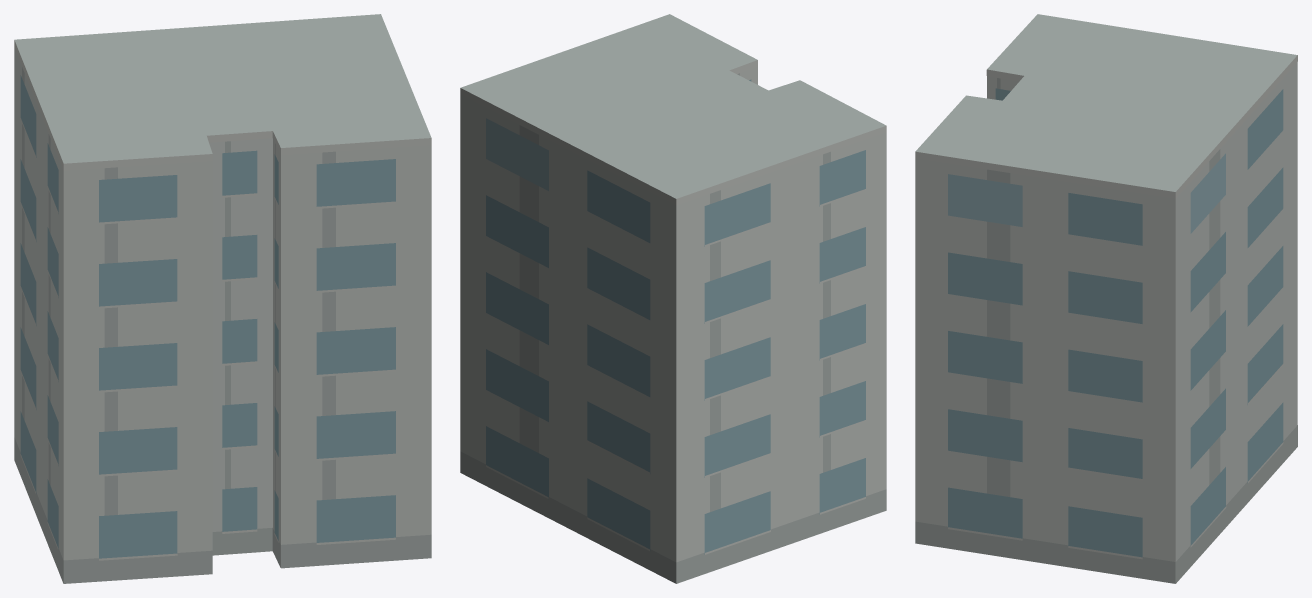
File: survey-upis-32527797.glb
The picture shows the model from 3 angles, left to right: view 1: azimuth 30°, elevation 25°; view 2: azimuth 150°, elevation 25°; view 3: azimuth 270°, elevation 25°; orthographic projection. The views are drawn at different scales.
Parts seen in each view (by area): view 1: survey-upis-32527797.tmp; view 2: survey-upis-32527797.tmp; view 3: survey-upis-32527797.tmp.
Part boxes in pixels (bbox=[...]): survey-upis-32527797.tmp: bbox=[14, 14, 431, 583]; survey-upis-32527797.tmp: bbox=[460, 14, 886, 583]; survey-upis-32527797.tmp: bbox=[915, 14, 1297, 583].
Bounding box in the file's own units: 13.85 × 14.2 × 12.57.
